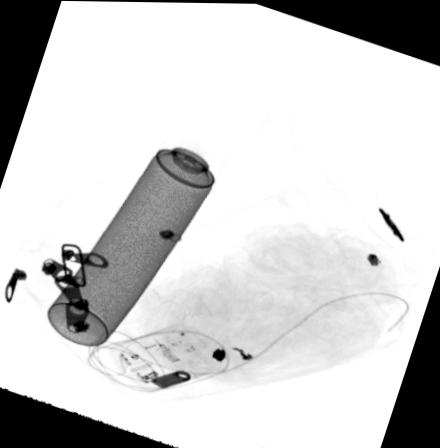Sprayer: (46, 116, 236, 348)
